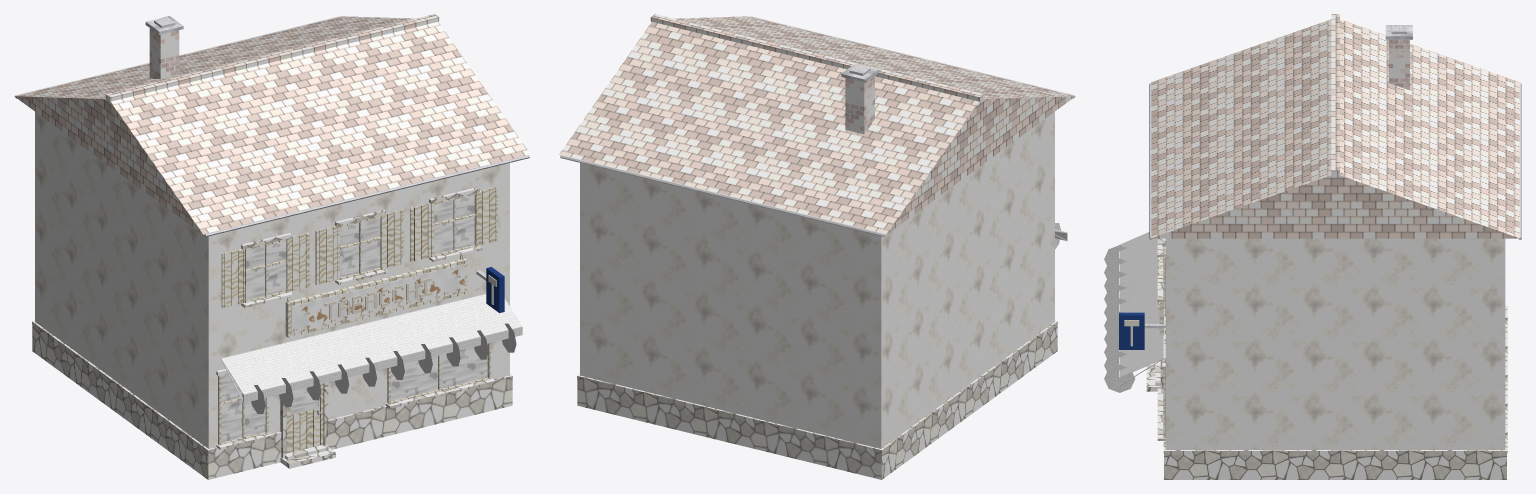
Rendered from tabacchi.obj.
3 views of the same model, side by side, from view 1: azimuth 30°, elevation 25°; view 2: azimuth 150°, elevation 25°; view 3: azimuth 270°, elevation 25° (orthographic). The views are drawn at different scales.
Visible parts, largest first — view 1: tegole_002, intonaco_000, pietra_001, tessuto_010, tessuto_011, insegna_008, vetro_021, legno_034, legno_030, legno_038, legno_007, vetro_035 (+18 smaller); view 2: intonaco_000, tegole_002, pietra_001, metallo_003, mattone_004; view 3: intonaco_000, tegole_002, pietra_001, tessuto_011, tessuto_010, mattone_004, metallo_003, liscio_013, pietra_023.
Part boxes in pixels (x1,y1,x2,y2): tegole_002: [14, 14, 530, 234]; intonaco_000: [35, 112, 509, 448]; pietra_001: [32, 320, 512, 479]; tessuto_010: [221, 297, 494, 413]; tessuto_011: [249, 294, 522, 407]; insegna_008: [291, 264, 464, 333]; vetro_021: [391, 344, 487, 401]; legno_034: [315, 209, 403, 284]; legno_030: [221, 232, 309, 307]; legno_038: [410, 186, 497, 261]; legno_007: [285, 254, 467, 337]; vetro_035: [434, 194, 474, 254]; intonaco_000: [580, 112, 1054, 448]; tegole_002: [559, 14, 1075, 234]; pietra_001: [577, 320, 1057, 479]; metallo_003: [560, 16, 1074, 236]; mattone_004: [845, 76, 874, 134]; intonaco_000: [1165, 238, 1505, 449]; tegole_002: [1151, 14, 1520, 238]; pietra_001: [1163, 305, 1507, 479]; tessuto_011: [1104, 241, 1164, 392]; tessuto_010: [1104, 232, 1164, 371]; mattone_004: [1388, 39, 1409, 90]; metallo_003: [1149, 83, 1521, 239]; liscio_013: [1119, 312, 1144, 349]; pietra_023: [1157, 316, 1165, 440].
Bounding box in the file's own units: 8.74 × 8.92 × 9.85.
Materials: 26 (23 with a texture image).
